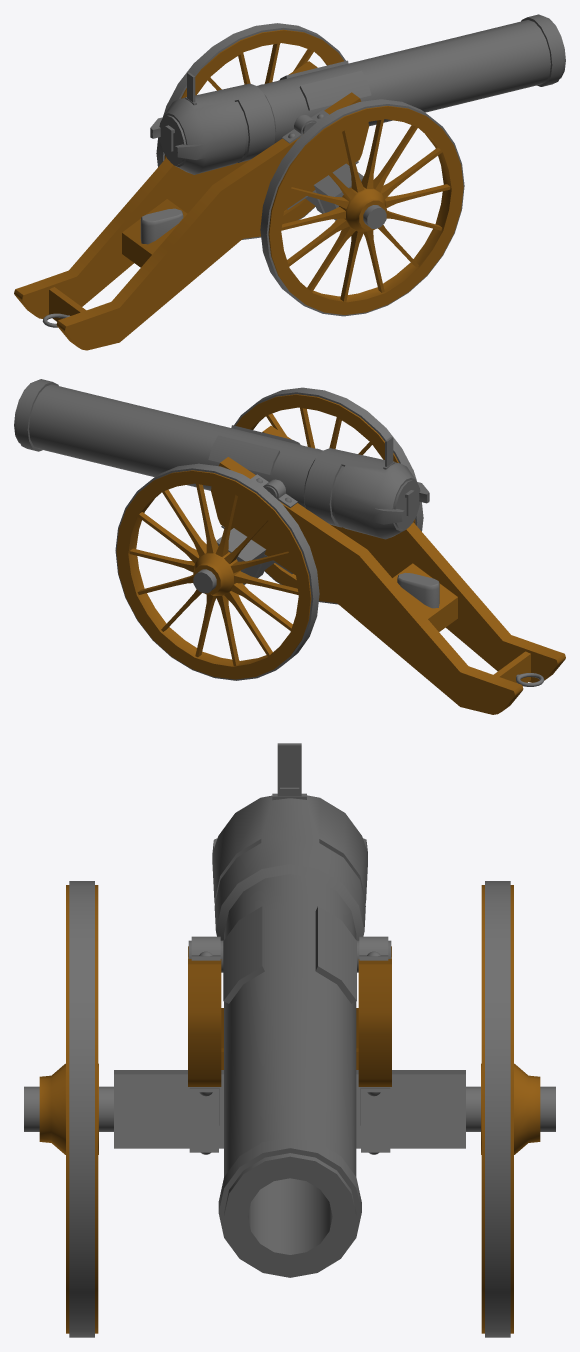
The model's file is Ground_Cannon_Clean.fbx.
3 renders of one model, top to bottom at view 1: azimuth 30°, elevation 25°; view 2: azimuth 150°, elevation 25°; view 3: azimuth 270°, elevation 25°, orthographic. The views are drawn at different scales.
Visible parts, largest first — view 1: Body, Wheels, Cannon, Capsquare; view 2: Body, Wheels, Cannon, Capsquare; view 3: Cannon, Wheels, Body, Capsquare.
Part boxes in pixels (box(x1,y1,x2,y2)): Body: box(14, 61, 386, 350); Wheels: box(156, 23, 464, 316); Cannon: box(150, 14, 565, 174); Capsquare: box(259, 80, 329, 143); Body: box(193, 426, 565, 714); Wheels: box(115, 387, 423, 680); Cannon: box(14, 379, 429, 539); Capsquare: box(251, 444, 320, 507); Cannon: box(188, 743, 391, 1277); Wheels: box(39, 881, 540, 1337); Body: box(24, 946, 555, 1154); Capsquare: box(191, 936, 388, 960).
Bounding box in the file's own units: 1219 × 520 × 551.
